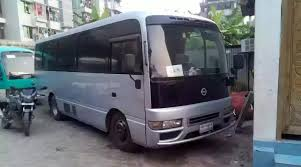minibus: (34, 10, 243, 151)
motorbike: (1, 87, 48, 136)
